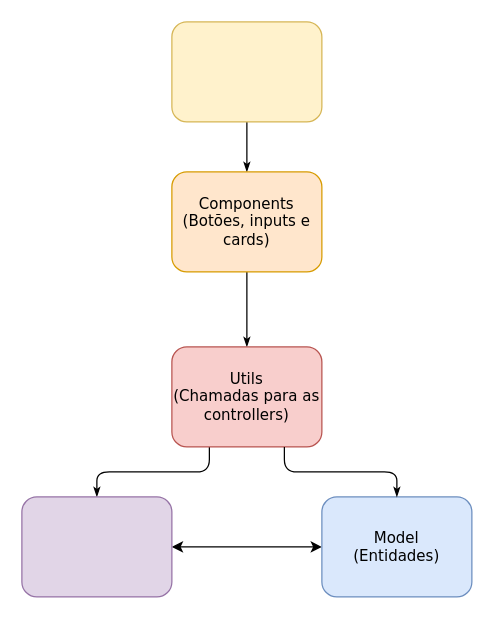
This 494x619 diagram has some shape labels left out. The shapes that lost their labels are listed below. From the top down, each one's centre as x and y in pixels, then its label:
At point 246,71: "View (Interface Web)".
At point 96,546: "Repository (Acesso ao BD)".
